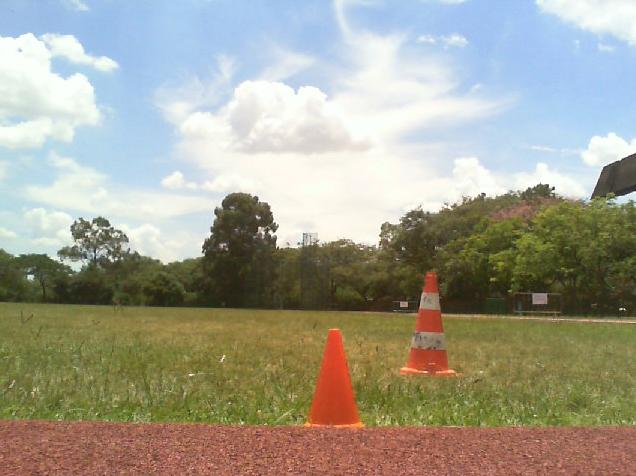0 cone: (396, 270, 458, 376), (303, 328, 362, 428)
